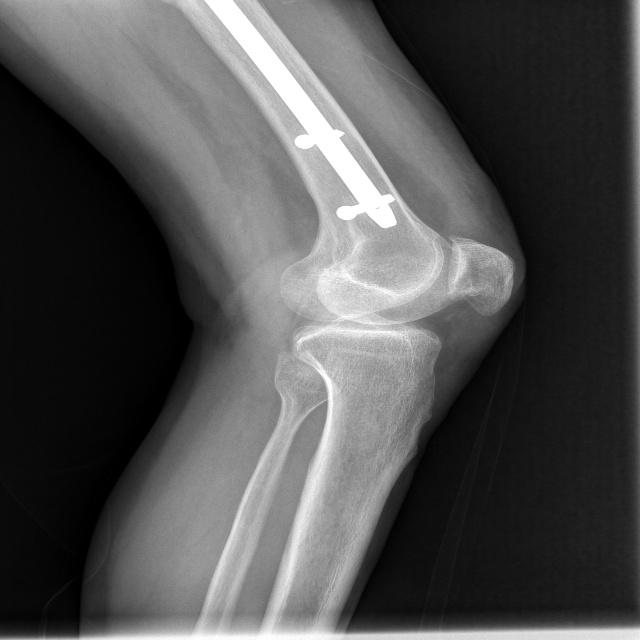Knee: (269, 223, 517, 402)
